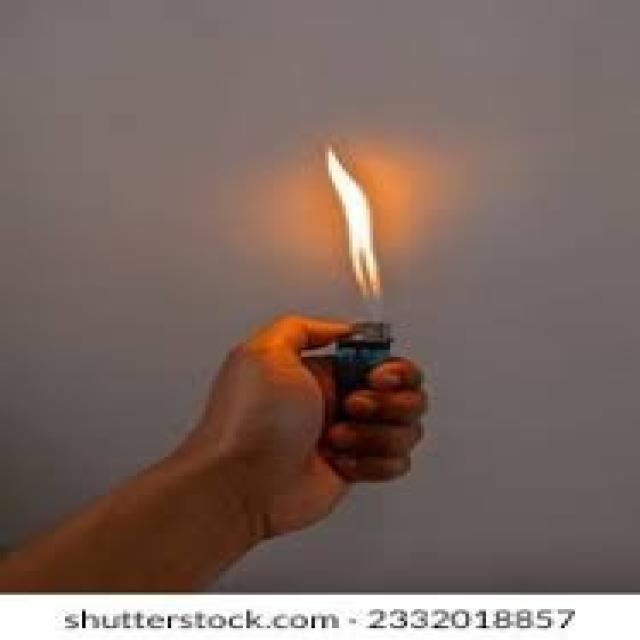fire: (327, 147, 379, 301)
